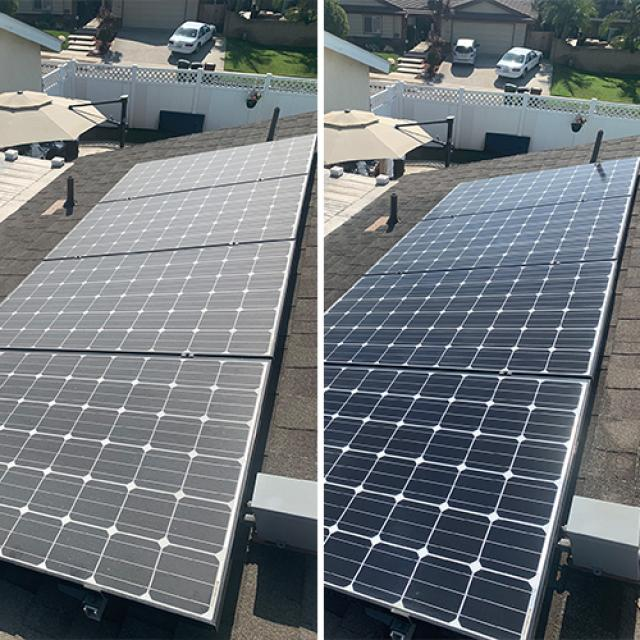dust-solar-panel: (0, 134, 321, 633)
